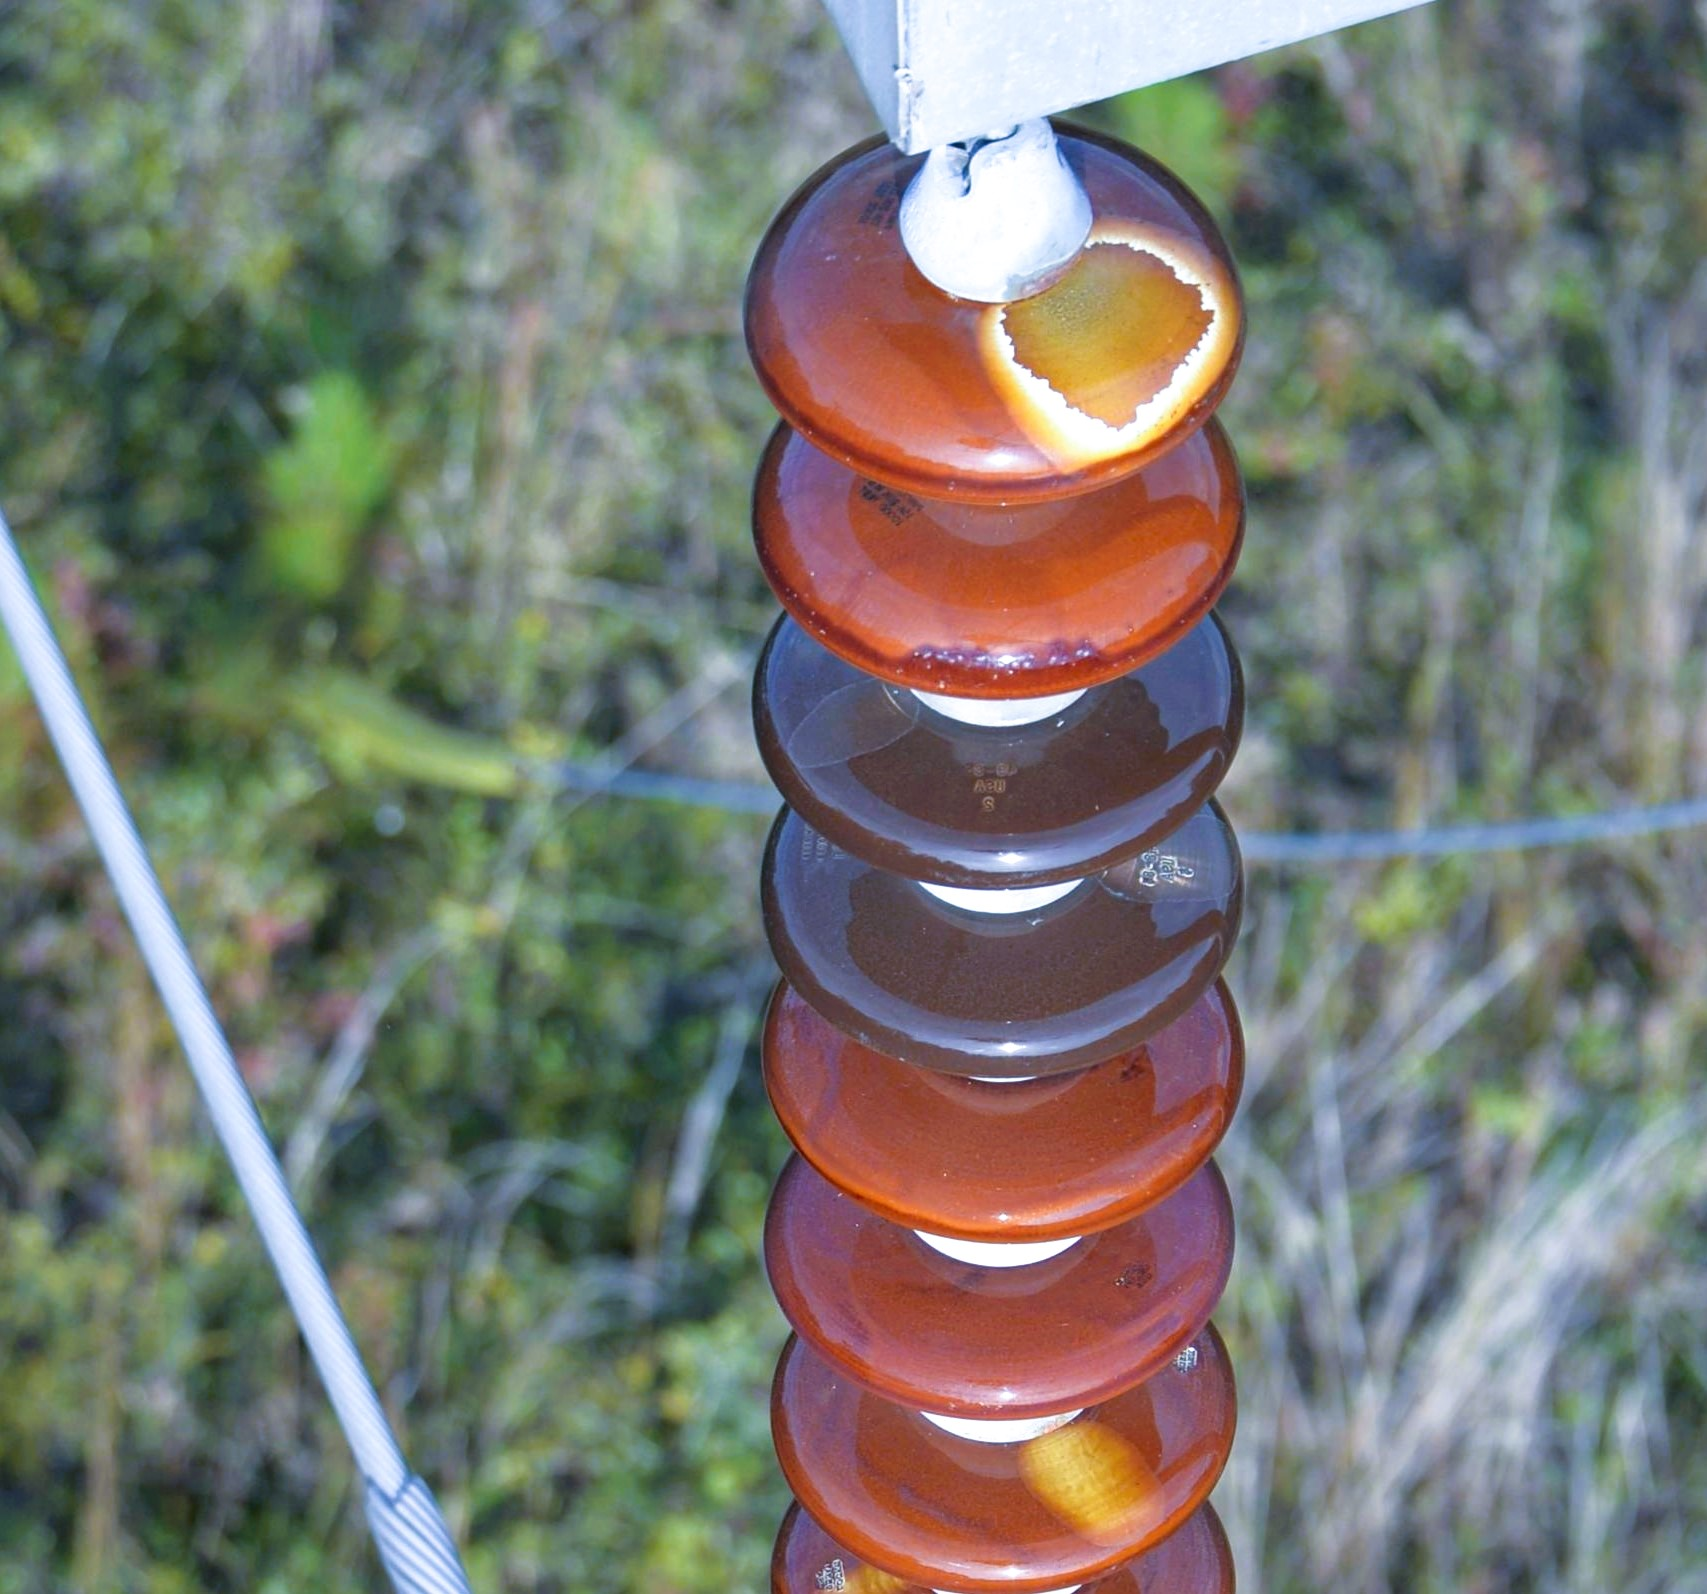Insulator flashover: (722, 121, 1260, 514), (758, 1306, 1245, 1594)
